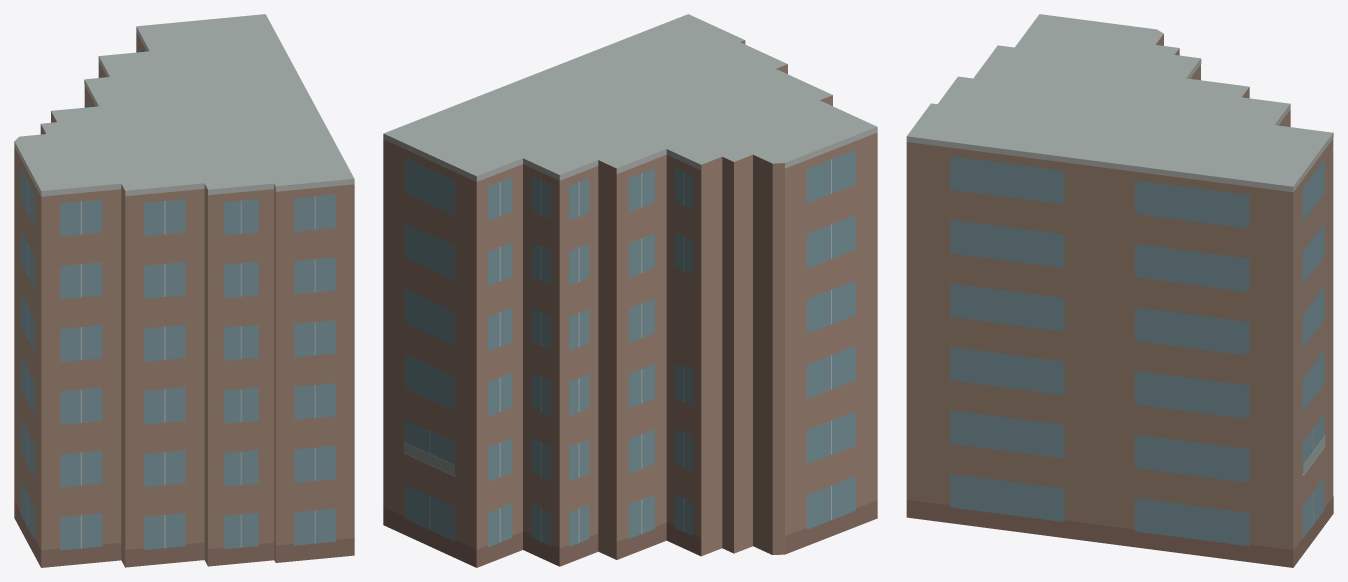
Rendered from survey-upis-32656011.glb.
The picture shows the model from 3 angles, left to right: view 1: azimuth 30°, elevation 25°; view 2: azimuth 150°, elevation 25°; view 3: azimuth 270°, elevation 25°; orthographic projection. The views are drawn at different scales.
Parts seen in each view (by area): view 1: survey-upis-32656011.tmp; view 2: survey-upis-32656011.tmp; view 3: survey-upis-32656011.tmp.
Part boxes in pixels (x1,y1,x2,y2): survey-upis-32656011.tmp: (14, 14, 354, 567); survey-upis-32656011.tmp: (383, 14, 877, 567); survey-upis-32656011.tmp: (906, 14, 1333, 567).
Size of the model in its own units: 16.25 by 16.7 by 16.96.
